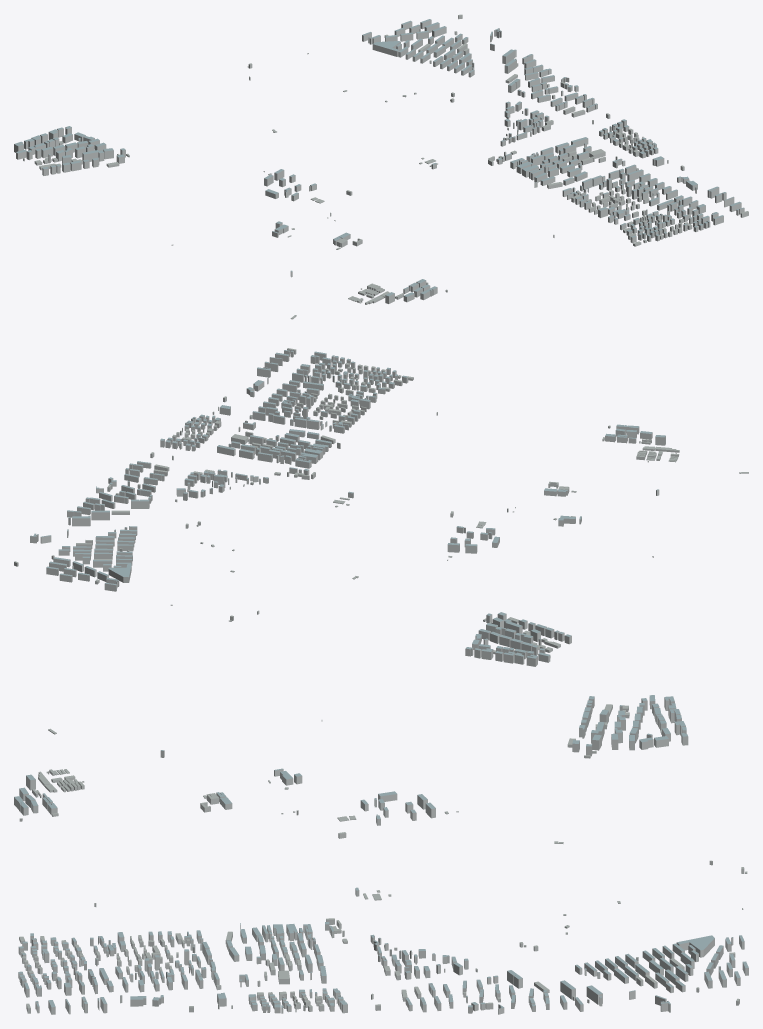
Rendered from far.glb.
3 renders of one model, top to bottom at view 1: azimuth 30°, elevation 25°; view 2: azimuth 150°, elevation 25°; view 3: azimuth 270°, elevation 25°, orthographic. The views are drawn at different scales.
Size of the model in its own units: 2123 by 44.12 by 2116.
